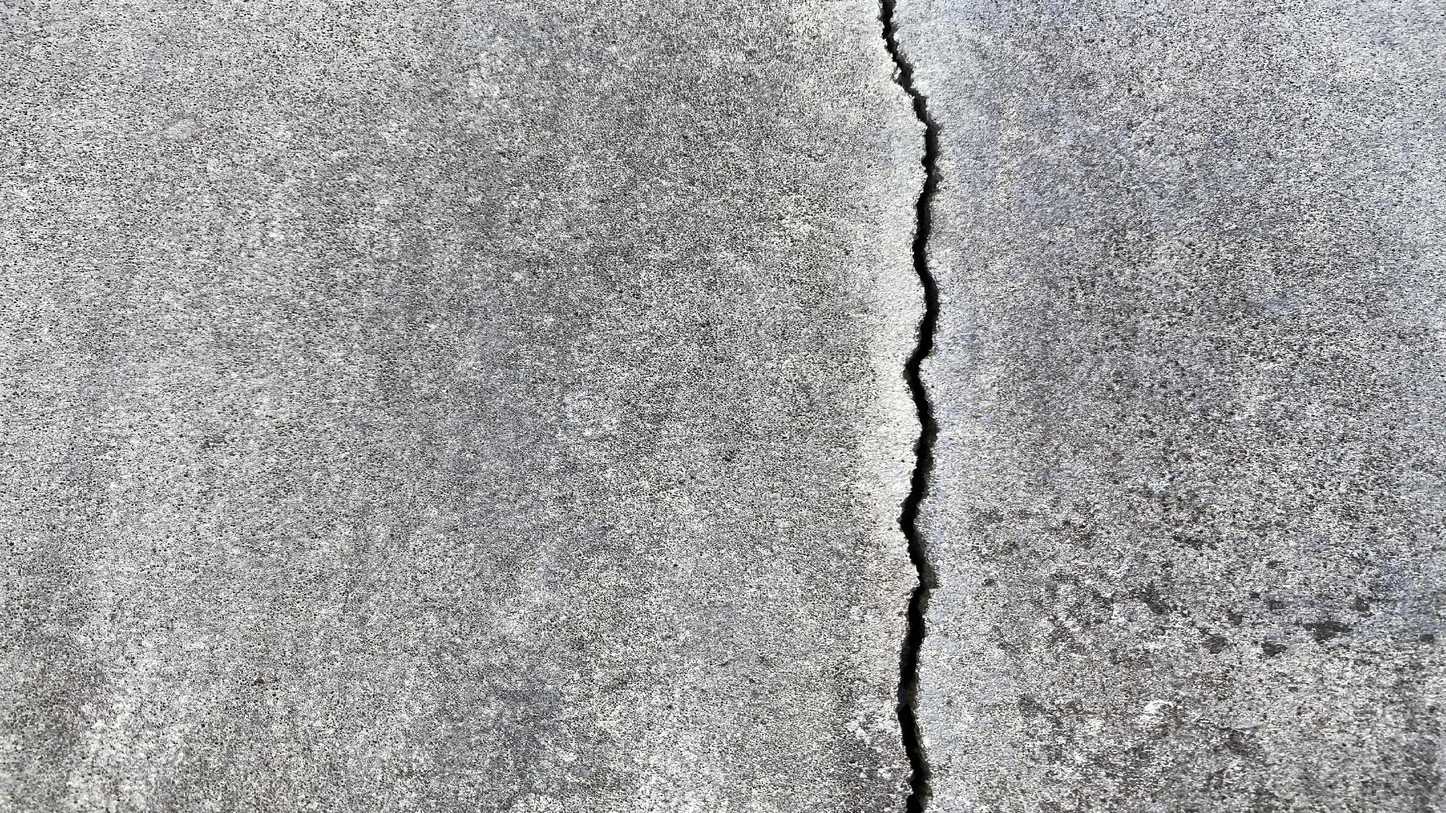crack: (875, 0, 940, 811)
